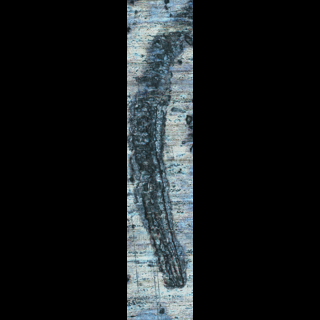d: (126, 6, 190, 292)
